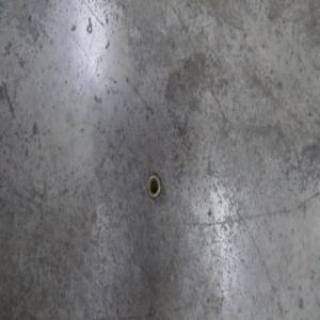Nuttrack_idkeyframe: (146, 172, 161, 201)
